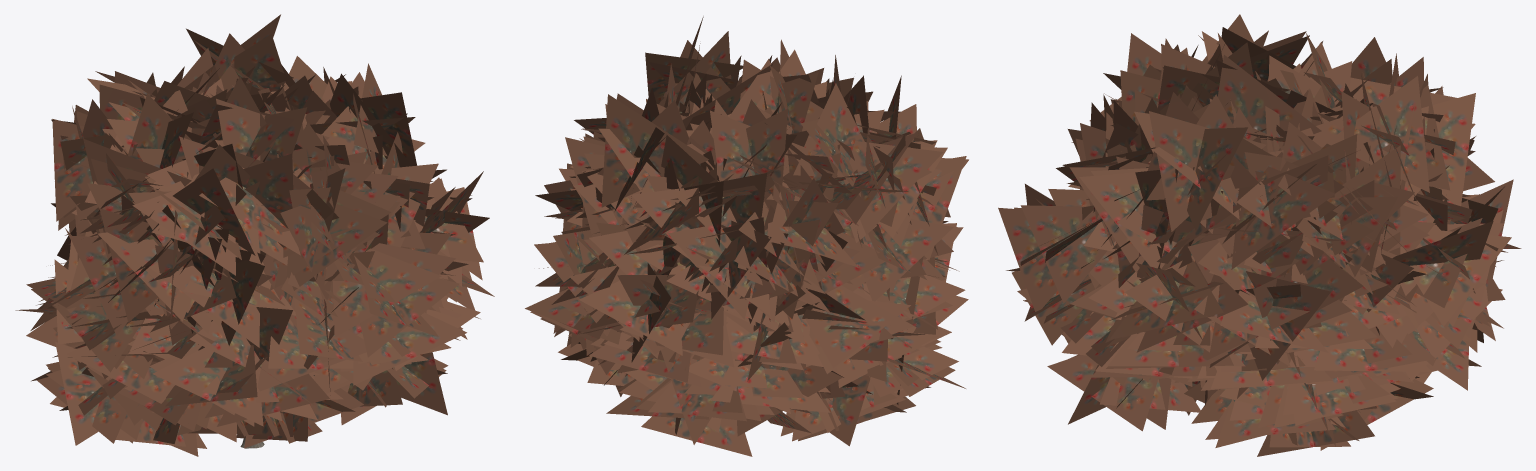
The model's file is Amelanchier_Canadensis_Autumn_Adult.glb.
The picture shows the model from 3 angles, left to right: view 1: azimuth 30°, elevation 25°; view 2: azimuth 150°, elevation 25°; view 3: azimuth 270°, elevation 25°; orthographic projection. The views are drawn at different scales.
Visible parts, largest first — view 1: Amelanchier_Canadensis_Autumn_Adult__LOD3; view 2: Amelanchier_Canadensis_Autumn_Adult__LOD3; view 3: Amelanchier_Canadensis_Autumn_Adult__LOD3.
Boxes of the visible parts, box(x1,y1,x2,y2) form: Amelanchier_Canadensis_Autumn_Adult__LOD3: box(15, 14, 494, 456); Amelanchier_Canadensis_Autumn_Adult__LOD3: box(525, 16, 968, 456); Amelanchier_Canadensis_Autumn_Adult__LOD3: box(998, 14, 1521, 456).
Bounding box in the file's own units: 5.68 × 4.91 × 6.05.
Materials: 2 (2 with a texture image).
